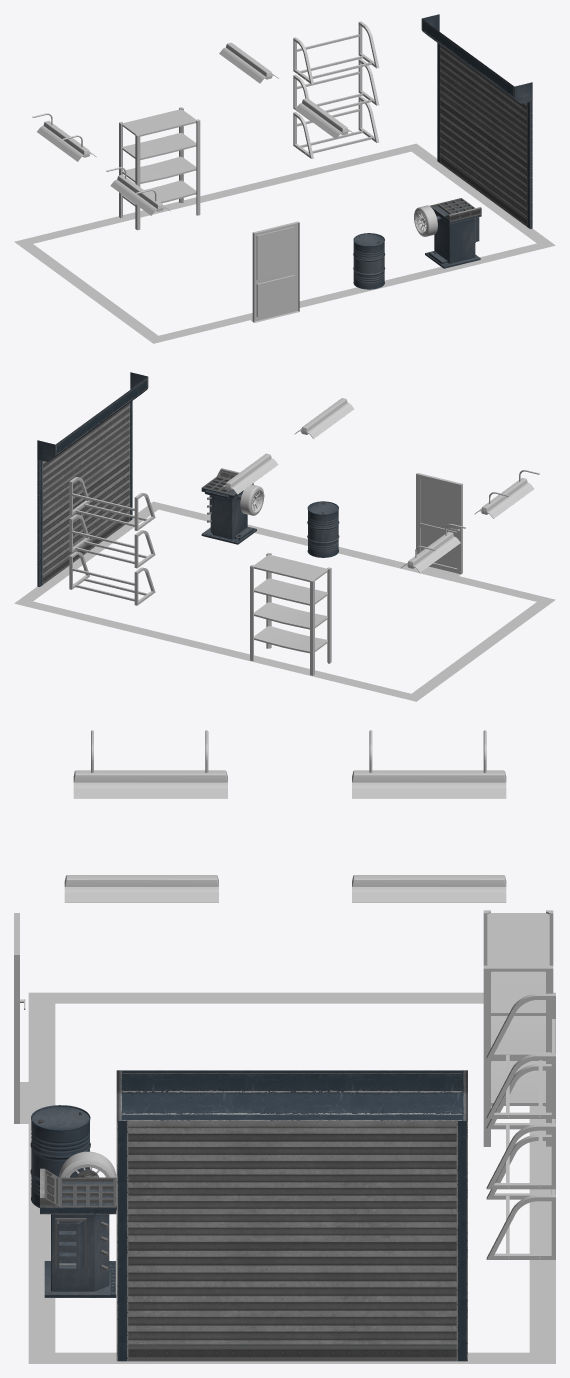
Rendered from trim_garage_metal.obj.
3 renders of one model, top to bottom at view 1: azimuth 30°, elevation 25°; view 2: azimuth 150°, elevation 25°; view 3: azimuth 270°, elevation 25°, orthographic. The views are drawn at different scales.
Parts seen in each view (by area): view 1: prop_garage_roller_shutters, prop_garage_floor.002, prop_garage_tool_shelf.001, prop_garage_door, prop_garage_fluorescent_lamp, prop_garage_Balanced_Machine, prop_garage_barrel_Oil, prop_garage_tire_shelf.003, prop_garage_tire_shelf.001, prop_garage_tire_shelf.002; view 2: prop_garage_roller_shutters, prop_garage_floor.002, prop_garage_tool_shelf.001, prop_garage_fluorescent_lamp, prop_garage_door, prop_garage_Balanced_Machine, prop_garage_barrel_Oil, prop_garage_tire_shelf.001, prop_garage_tire_shelf.002, prop_garage_tire_shelf.003; view 3: prop_garage_roller_shutters, prop_garage_floor.002, prop_garage_fluorescent_lamp, prop_garage_tool_shelf.001, prop_garage_Balanced_Machine, prop_garage_barrel_Oil, prop_garage_tire_shelf.003, prop_garage_tire_shelf.001, prop_garage_tire_shelf.002, prop_garage_door.
Part boxes in pixels (left/top/right/bottom): prop_garage_roller_shutters: left=421, top=14, right=532, bottom=228; prop_garage_floor.002: left=14, top=143, right=555, bottom=343; prop_garage_tool_shelf.001: left=119, top=107, right=200, bottom=230; prop_garage_door: left=251, top=221, right=299, bottom=322; prop_garage_fluorescent_lamp: left=32, top=42, right=354, bottom=215; prop_garage_Balanced_Machine: left=414, top=198, right=481, bottom=268; prop_garage_barrel_Oil: left=353, top=233, right=385, bottom=289; prop_garage_tire_shelf.003: left=293, top=21, right=379, bottom=84; prop_garage_tire_shelf.001: left=293, top=96, right=379, bottom=158; prop_garage_tire_shelf.002: left=293, top=59, right=379, bottom=121; prop_garage_roller_shutters: left=37, top=372, right=148, bottom=586; prop_garage_floor.002: left=14, top=501, right=555, bottom=701; prop_garage_tool_shelf.001: left=250, top=552, right=331, bottom=675; prop_garage_fluorescent_lamp: left=218, top=398, right=539, bottom=572; prop_garage_door: left=416, top=473, right=462, bottom=575; prop_garage_Balanced_Machine: left=201, top=468, right=264, bottom=544; prop_garage_barrel_Oil: left=307, top=501, right=339, bottom=557; prop_garage_tire_shelf.001: left=69, top=551, right=155, bottom=605; prop_garage_tire_shelf.002: left=69, top=514, right=155, bottom=568; prop_garage_tire_shelf.003: left=69, top=477, right=155, bottom=530; prop_garage_roller_shutters: left=116, top=1070, right=467, bottom=1361; prop_garage_floor.002: left=28, top=992, right=555, bottom=1363; prop_garage_fluorescent_lamp: left=64, top=730, right=506, bottom=902; prop_garage_tool_shelf.001: left=483, top=910, right=553, bottom=1146; prop_garage_Balanced_Machine: left=40, top=1151, right=116, bottom=1297; prop_garage_barrel_Oil: left=30, top=1105, right=90, bottom=1207; prop_garage_tire_shelf.003: left=486, top=993, right=555, bottom=1118; prop_garage_tire_shelf.001: left=486, top=1134, right=555, bottom=1259; prop_garage_tire_shelf.002: left=486, top=1064, right=555, bottom=1189; prop_garage_door: left=14, top=913, right=28, bottom=1123.
Size of the model in its own units: 10 by 3.79 by 6.17.
